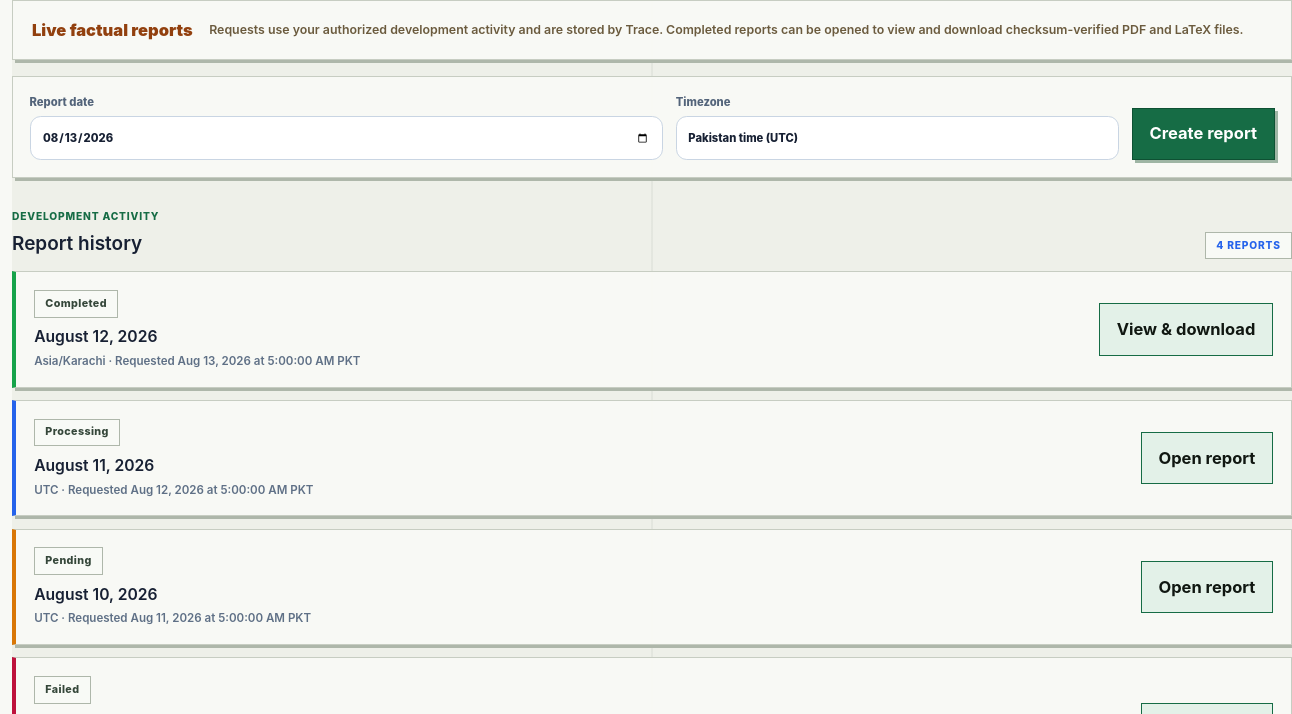
Scenario: Day 8 report lifecycle › maps REPORT_GENERATION_UNAVAILABLE to safe actionable copy
Expected: the heading "Report history" is shown, [12,230,159,259]
What coordinates should you click on to do the following:
click the button "Create report"
I would click on:
 (1203, 134)
Its box is [1132,108,1274,160].
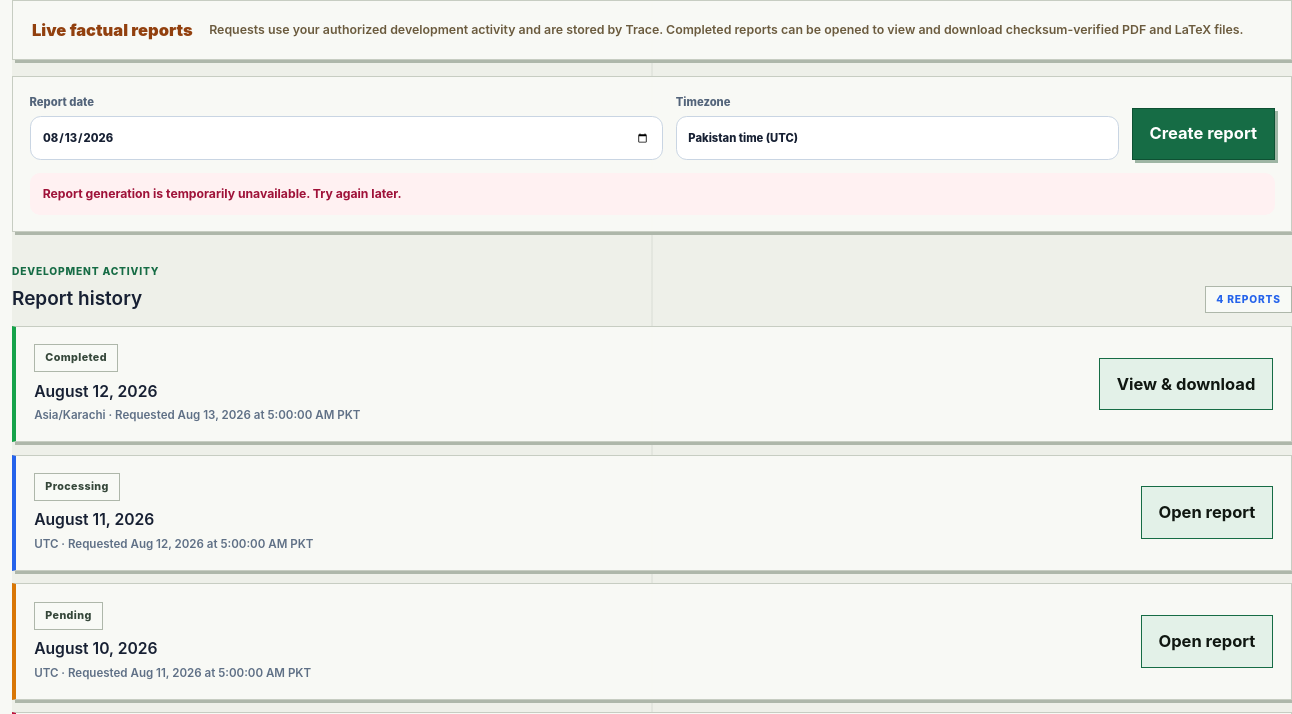
Expected: the message does not show "internal", [30,173,1274,215]
Result: the message shows "Report generation is temporarily unavailable" at [43,186,402,201]
